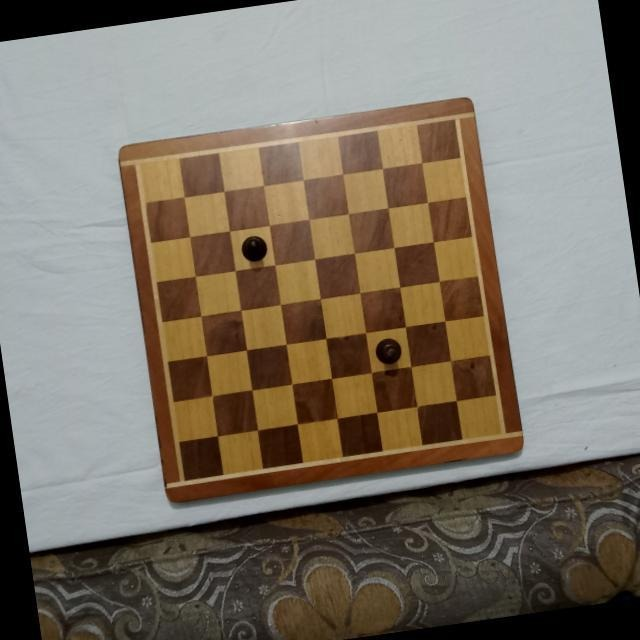black-pawn: (238, 232, 270, 264), (372, 337, 404, 369)
